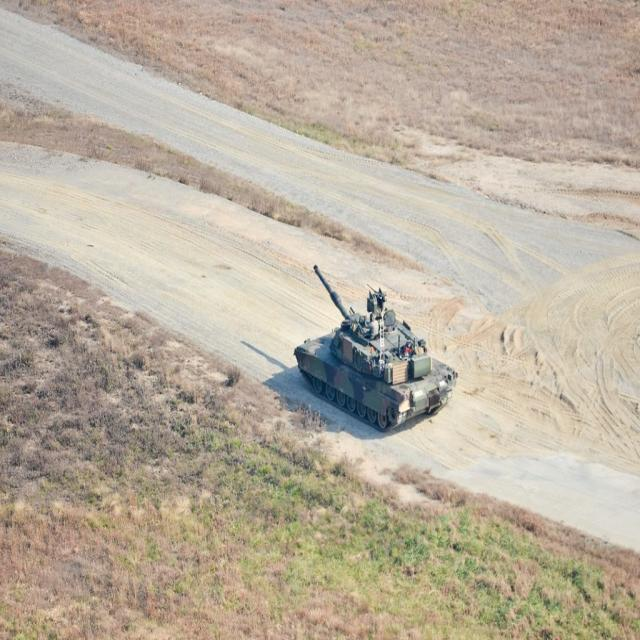tank: (294, 266, 458, 432)
